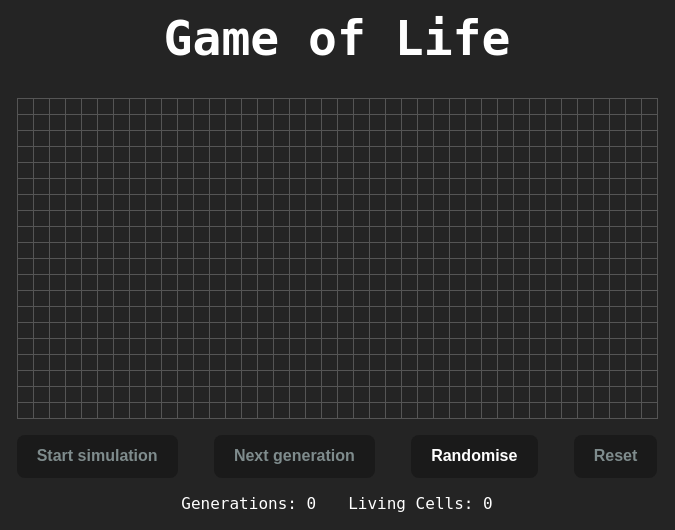
/ › select cells in grid, observe button behaviour, observe stats
This screenshot has width=675, height=530.
Expected: the button with test id "run-btn" is disabled, x1=17 y1=435 x2=178 y2=478
Expected: the button with test id "next-btn" is disabled, x1=214 y1=435 x2=375 y2=478
Click the 1st element with test id "cell": click(26, 107) x1=18 y1=99 x2=33 y2=114
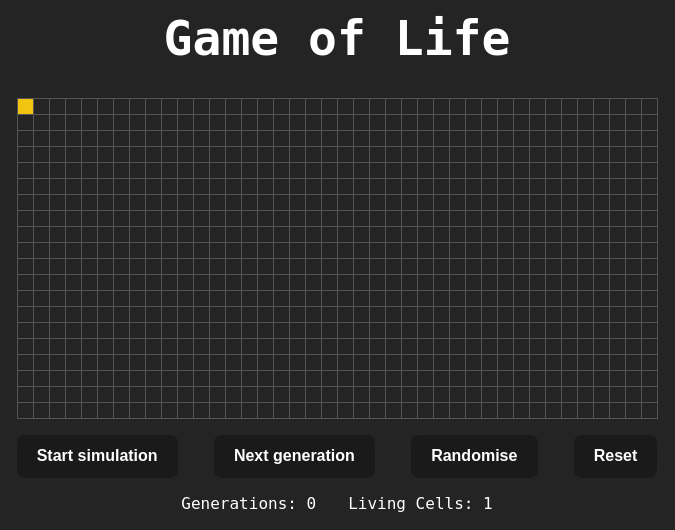
Click the 2nd element with test id "cell": click(42, 107) x1=34 y1=99 x2=49 y2=114
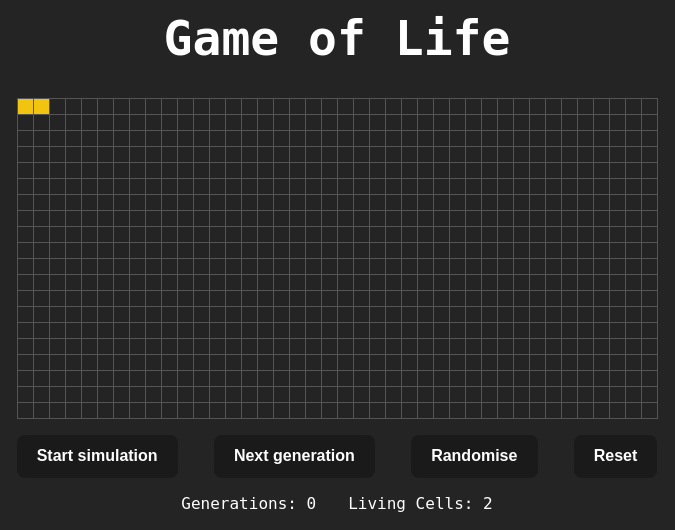
Expected: the text "0" is shown, x1=307 y1=494 x2=317 y2=513
Result: the text "2" is shown at x1=483 y1=494 x2=493 y2=513
Click the 1st element with test id "cell": click(26, 107) x1=18 y1=99 x2=33 y2=114
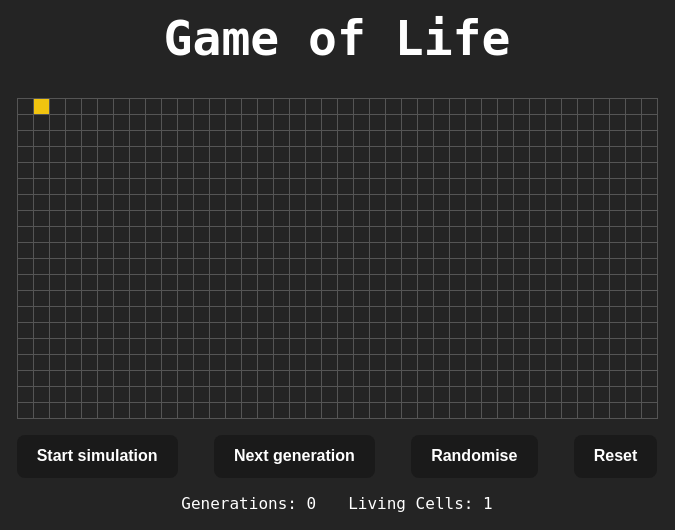
Result: the text "1" is shown at x1=483 y1=494 x2=493 y2=513
Click the 2nd element with test id "cell": click(42, 107) x1=34 y1=99 x2=49 y2=114
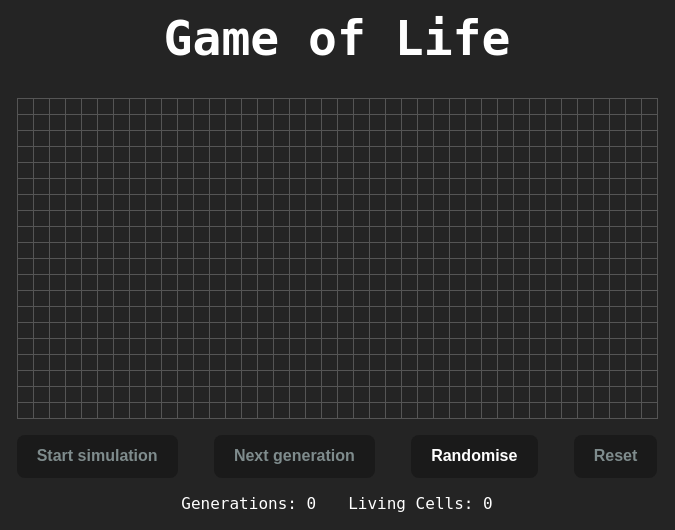
Result: the text "0" is shown at x1=483 y1=494 x2=493 y2=513
